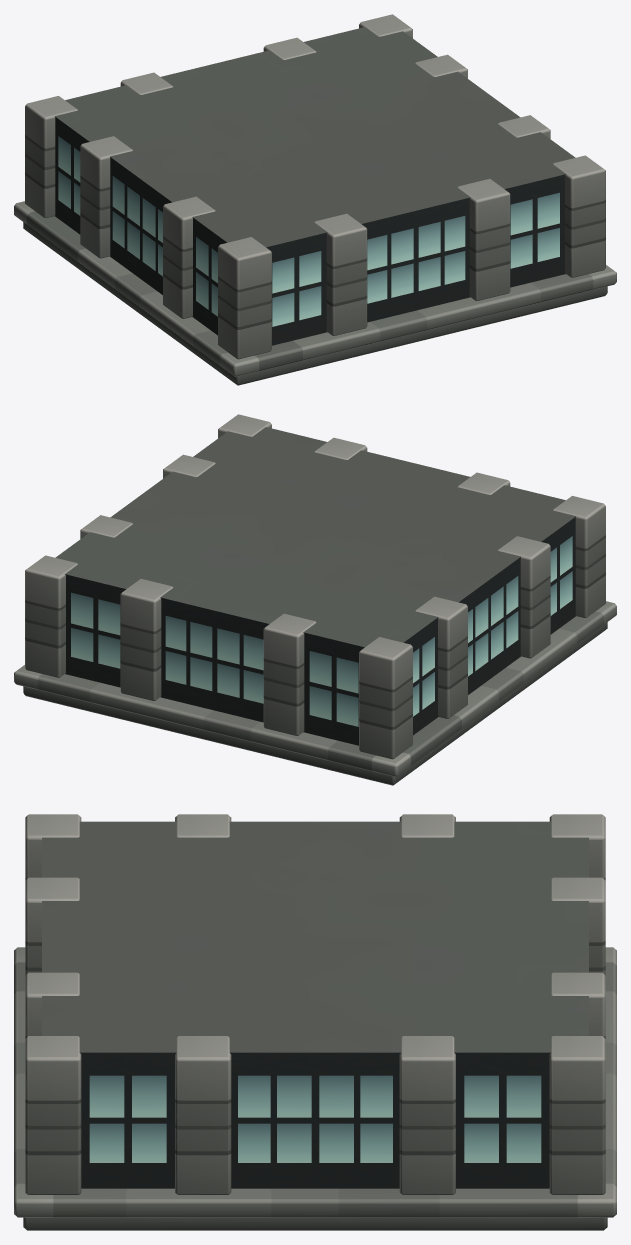
File: office_building_type1_single_floor2_grey.fbx
The picture shows the model from 3 angles, top to bottom: view 1: azimuth 30°, elevation 25°; view 2: azimuth 150°, elevation 25°; view 3: azimuth 270°, elevation 25°; orthographic projection. The views are drawn at different scales.
Parts seen in each view (by area): view 1: office_building_type1_single_floor2_grey; view 2: office_building_type1_single_floor2_grey; view 3: office_building_type1_single_floor2_grey.
Part boxes in pixels (x1=…): office_building_type1_single_floor2_grey: x1=14, y1=14, x2=616, y2=385; office_building_type1_single_floor2_grey: x1=14, y1=414, x2=616, y2=785; office_building_type1_single_floor2_grey: x1=14, y1=814, x2=616, y2=1230.
Bounding box in the file's own units: 1610 × 509 × 1610.
